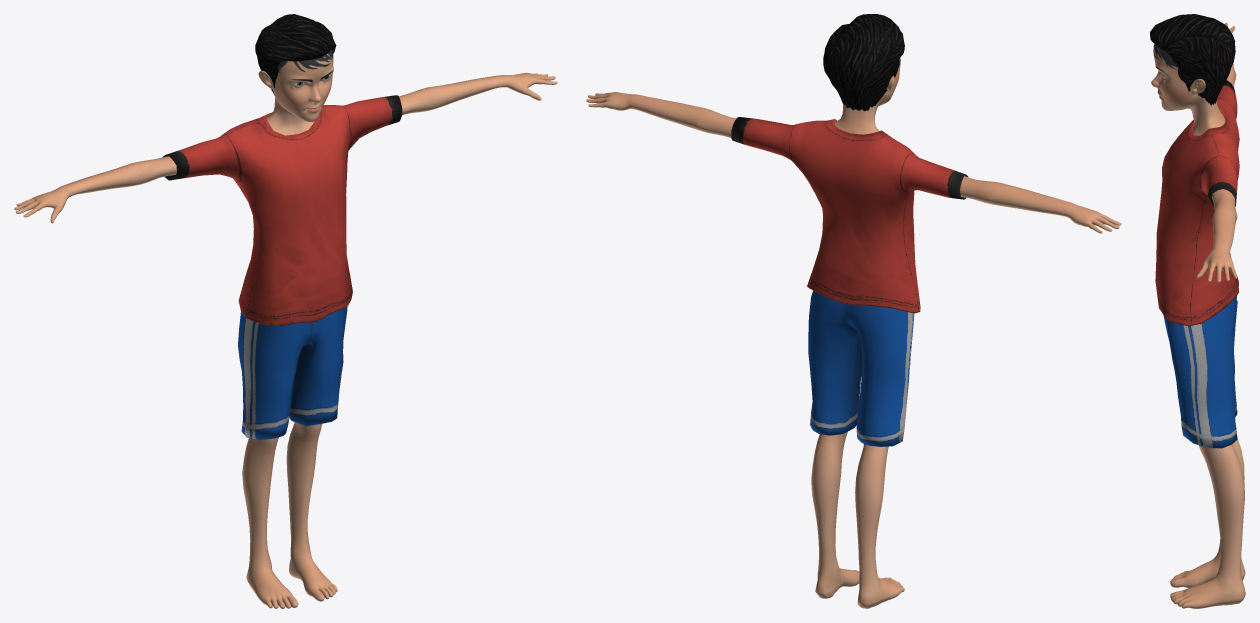
The model's file is Biker.fbx.
The picture shows the model from 3 angles, left to right: view 1: azimuth 30°, elevation 25°; view 2: azimuth 150°, elevation 25°; view 3: azimuth 270°, elevation 25°; orthographic projection.
Visible parts, largest first — view 1: Toon; view 2: Toon; view 3: Toon.
Boxes of the visible parts, left/top/right/bottom form: Toon: left=14, top=14, right=557, bottom=608; Toon: left=586, top=14, right=1121, bottom=608; Toon: left=1150, top=14, right=1245, bottom=608.
Bounding box in the file's own units: 479 × 493 × 73.91.
4 materials, 4 textured.
